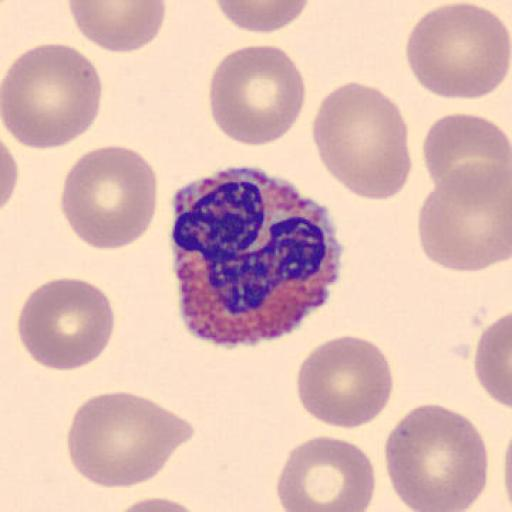RBC: (64, 390, 196, 490), (309, 80, 412, 202), (382, 402, 490, 512), (2, 39, 103, 151), (415, 160, 512, 273), (59, 144, 159, 251), (405, 1, 511, 101), (208, 43, 307, 147), (294, 335, 396, 431), (16, 275, 115, 372), (274, 433, 377, 512), (422, 111, 512, 199), (68, 0, 167, 54), (473, 309, 512, 411), (214, 0, 311, 35), (108, 493, 212, 512), (1, 137, 20, 214), (503, 419, 512, 512)
WBC: (167, 165, 346, 350)
